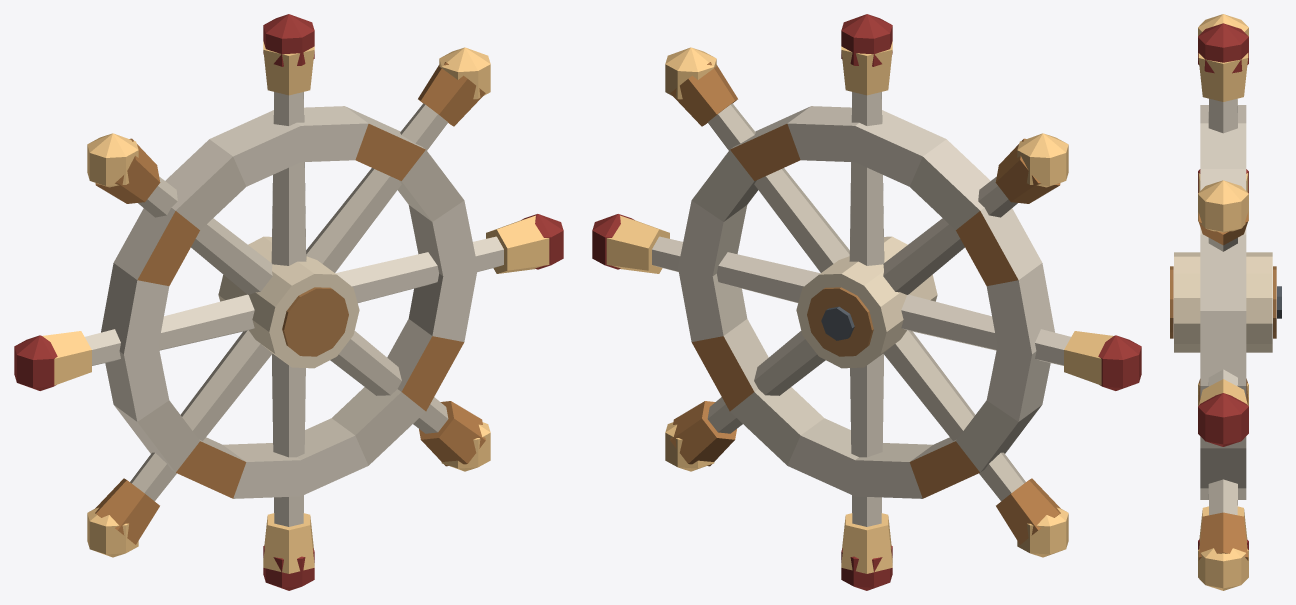
The model's file is Helm_Wheel.obj.
3 views of the same model, side by side, from view 1: azimuth 30°, elevation 25°; view 2: azimuth 150°, elevation 25°; view 3: azimuth 270°, elevation 25° (orthographic). The views are drawn at different scales.
Parts seen in each view (by area): view 1: Helm_Wheel; view 2: Helm_Wheel; view 3: Helm_Wheel.
Part boxes in pixels (left/top/right/bottom): Helm_Wheel: left=14, top=14, right=563, bottom=590; Helm_Wheel: left=592, top=14, right=1141, bottom=590; Helm_Wheel: left=1170, top=14, right=1281, bottom=590.
Size of the model in its own units: 1.51 by 1.53 by 0.277.
Materials: 1 (1 with a texture image).
